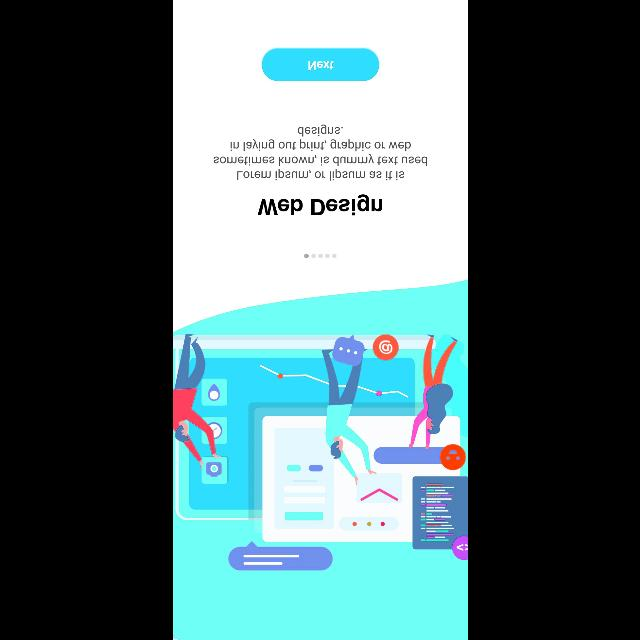image: (172, 334, 468, 570)
pageindicator: (304, 254, 336, 258)
text: (213, 125, 427, 182), (258, 194, 382, 216)
textbutton: (262, 48, 378, 80)
